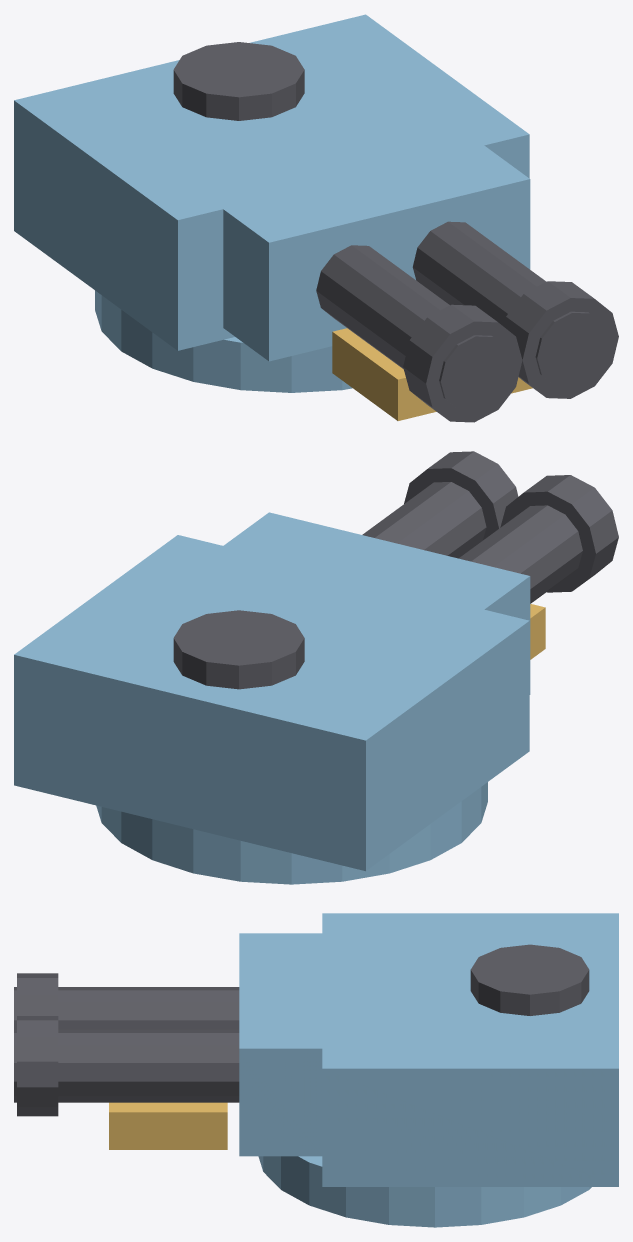
Rendered from ShotgunTurret.fbx.
The picture shows the model from 3 angles, top to bottom: view 1: azimuth 30°, elevation 25°; view 2: azimuth 150°, elevation 25°; view 3: azimuth 270°, elevation 25°; orthographic projection. The views are drawn at different scales.
Parts seen in each view (by area): view 1: Shotgun_Body, Shotgun_Barrel; view 2: Shotgun_Body, Shotgun_Barrel; view 3: Shotgun_Body, Shotgun_Barrel.
Part boxes in pixels (<box>): Shotgun_Body: <box>14,14,530,392</box>; Shotgun_Barrel: <box>316,221,618,422</box>; Shotgun_Body: <box>14,512,530,884</box>; Shotgun_Barrel: <box>362,451,618,659</box>; Shotgun_Body: <box>239,913,618,1227</box>; Shotgun_Barrel: <box>14,973,239,1149</box>.
Size of the model in its own units: 0.62 by 1.02 by 0.34.
